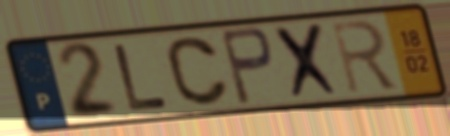2: (54, 40, 122, 124)
C: (163, 34, 232, 109)
L: (109, 41, 172, 113)
P: (216, 24, 277, 108)
R: (328, 17, 402, 98)
X: (270, 20, 346, 103)
